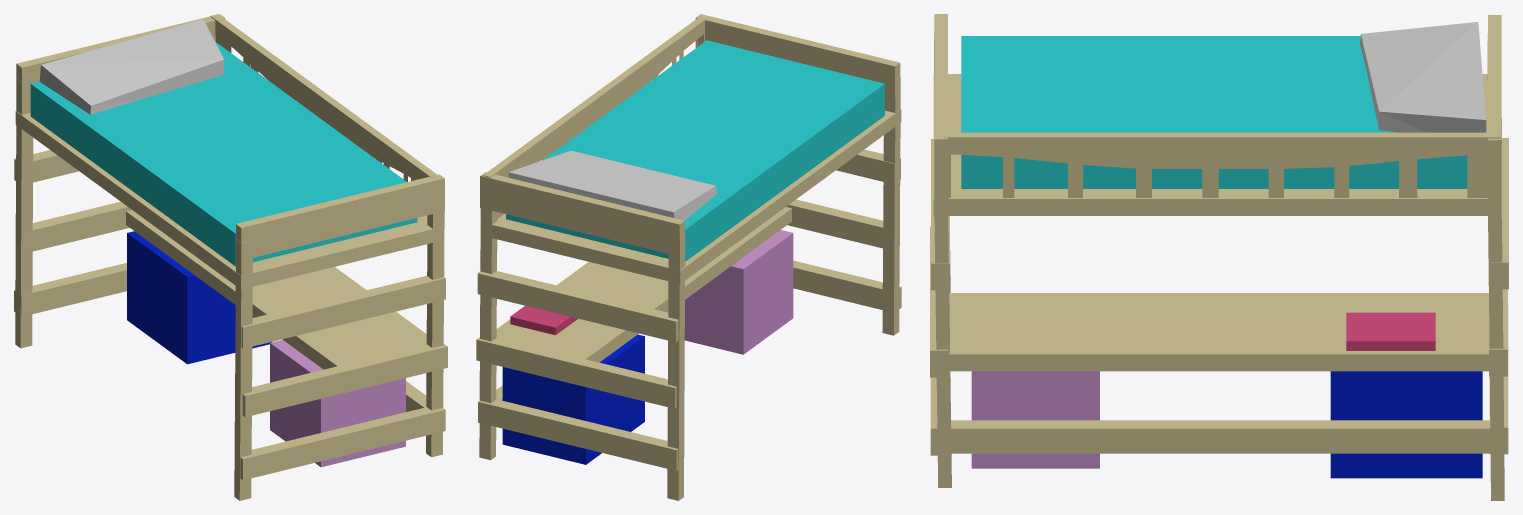
File: colored-bed.dae
3 renders of one model, left to right at view 1: azimuth 30°, elevation 25°; view 2: azimuth 150°, elevation 25°; view 3: azimuth 270°, elevation 25°, orthographic. The views are drawn at different scales.
Visible parts, largest first — view 1: Cube_001, Cube_003, Cube_012, Cube_004, Cube, Cube_010, Cube_006, Cube_007, Cube_008, Cube_011, Cube_005, Cube_002; view 2: Cube_001, Cube_002, Cube_011, Cube_003, Cube_004, Cube, Cube_007, Cube_006, Cube_010, Cube_012, Cube_008, Cube_005 (+1 smaller); view 3: Cube_001, Cube_004, Cube_005, Cube_009, Cube, Cube_012, Cube_010, Cube_011, Cube_002, Cube_003, Cube_013, Cube_008 (+2 smaller).
Part boxes in pixels (box(x1,y1,x2,y2)): Cube_001: box(30, 41, 417, 266); Cube_003: box(234, 174, 444, 500); Cube_012: box(39, 19, 224, 114); Cube_004: box(126, 210, 426, 369); Cube: box(15, 111, 444, 289); Cube_010: box(127, 231, 271, 364); Cube_006: box(14, 263, 445, 480); Cube_007: box(23, 201, 447, 417); Cube_008: box(14, 150, 445, 348); Cube_011: box(270, 340, 405, 467); Cube_005: box(210, 14, 438, 181); Cube_002: box(15, 14, 225, 348); Cube_001: box(506, 40, 884, 261); Cube_002: box(479, 172, 685, 500); Cube_011: box(684, 230, 793, 354); Cube_003: box(695, 14, 900, 335); Cube_004: box(496, 207, 791, 362); Cube: box(492, 109, 901, 283); Cube_007: box(476, 199, 899, 408); Cube_006: box(478, 260, 901, 470); Cube_010: box(502, 334, 644, 464); Cube_012: box(508, 150, 716, 220); Cube_008: box(477, 149, 900, 342); Cube_005: box(483, 16, 706, 218); Cube_001: box(961, 36, 1467, 188); Cube_004: box(948, 293, 1488, 371); Cube_005: box(943, 132, 1500, 197); Cube_009: box(951, 420, 1489, 453); Cube: box(933, 74, 1487, 215); Cube_012: box(1360, 22, 1486, 132); Cube_010: box(1330, 371, 1482, 478); Cube_011: box(971, 371, 1099, 468); Cube_002: box(1487, 15, 1504, 500); Cube_003: box(934, 14, 951, 487); Cube_013: box(1346, 312, 1435, 350); Cube_008: box(931, 138, 1508, 290).
Size of the model in its own units: 1.41 by 2.73 by 1.91.
